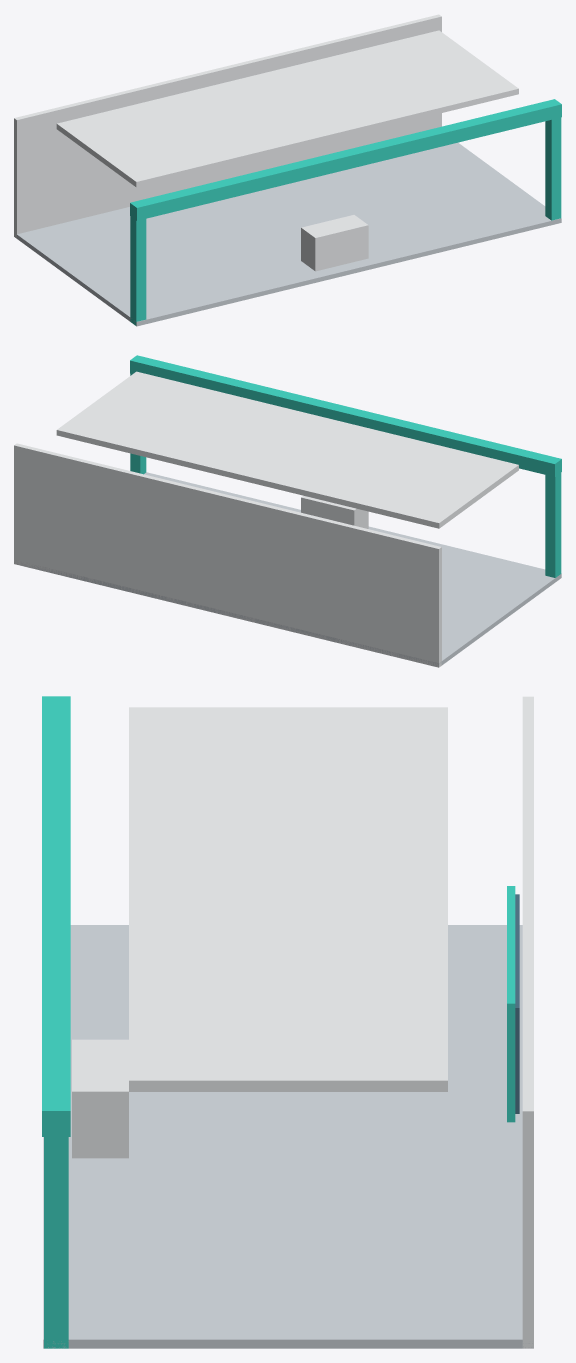
3 views of the same model, one above another, from view 1: azimuth 30°, elevation 25°; view 2: azimuth 150°, elevation 25°; view 3: azimuth 270°, elevation 25° (orthographic). The views are drawn at different scales.
Parts seen in each view (by area): view 1: Exhibition Booth Concept; view 2: Exhibition Booth Concept; view 3: Exhibition Booth Concept.
Part boxes in pixels (box(x1,y1,x2,y2)): Exhibition Booth Concept: box(14, 14, 561, 326); Exhibition Booth Concept: box(14, 355, 561, 667); Exhibition Booth Concept: box(42, 696, 533, 1348).
Bounding box in the file's own units: 12 × 3.34 × 6.02.
